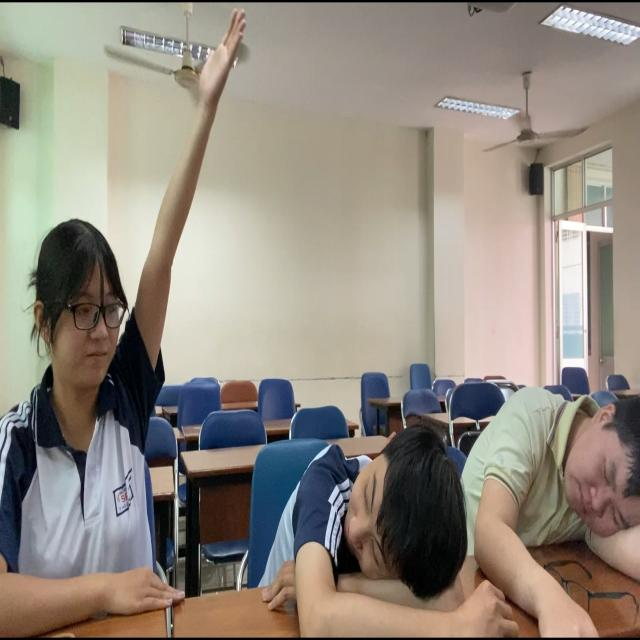raise_hand: (1, 3, 245, 640)
sleep: (261, 423, 468, 640), (461, 384, 640, 628)
